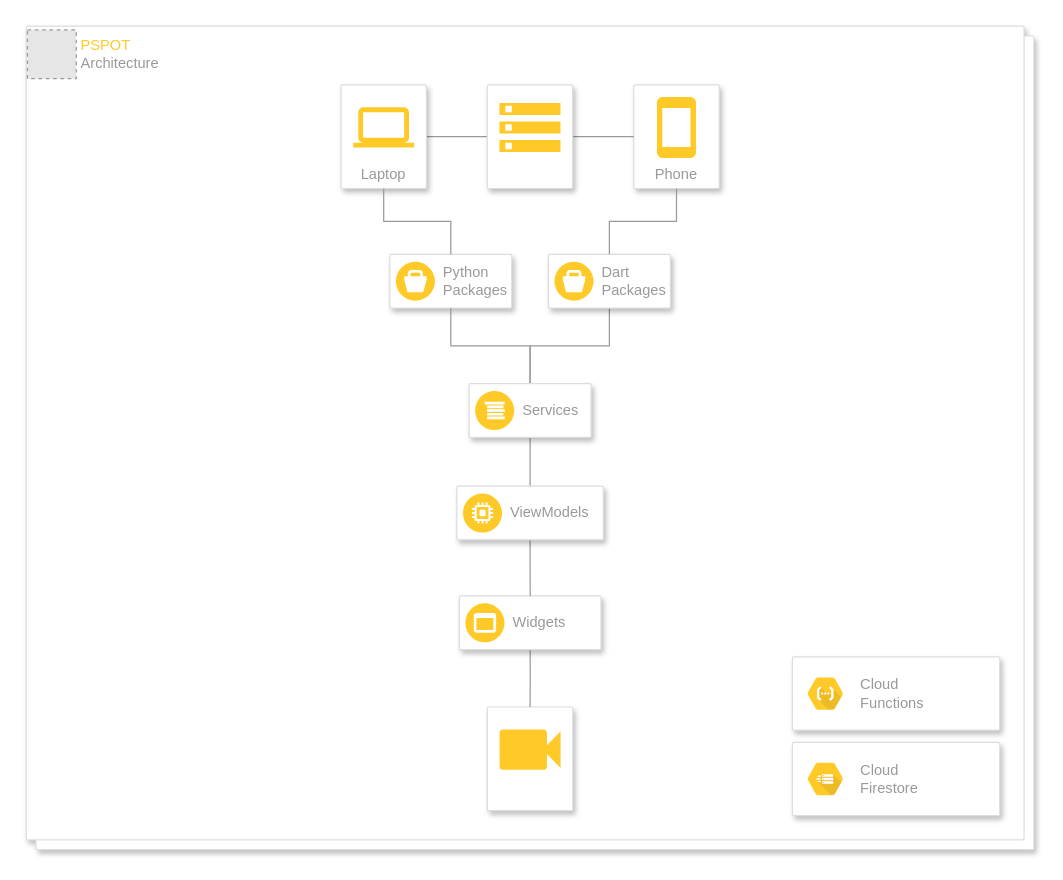
Image size: 1063x880. Some labels were removed from this diagram. Grey dashed boxes stand in for pictures. Here are the shapes that lost their labels. From the top down, the centre of each, then its label:
At point (530, 138): "Database".
At point (530, 760): "CCTV".
